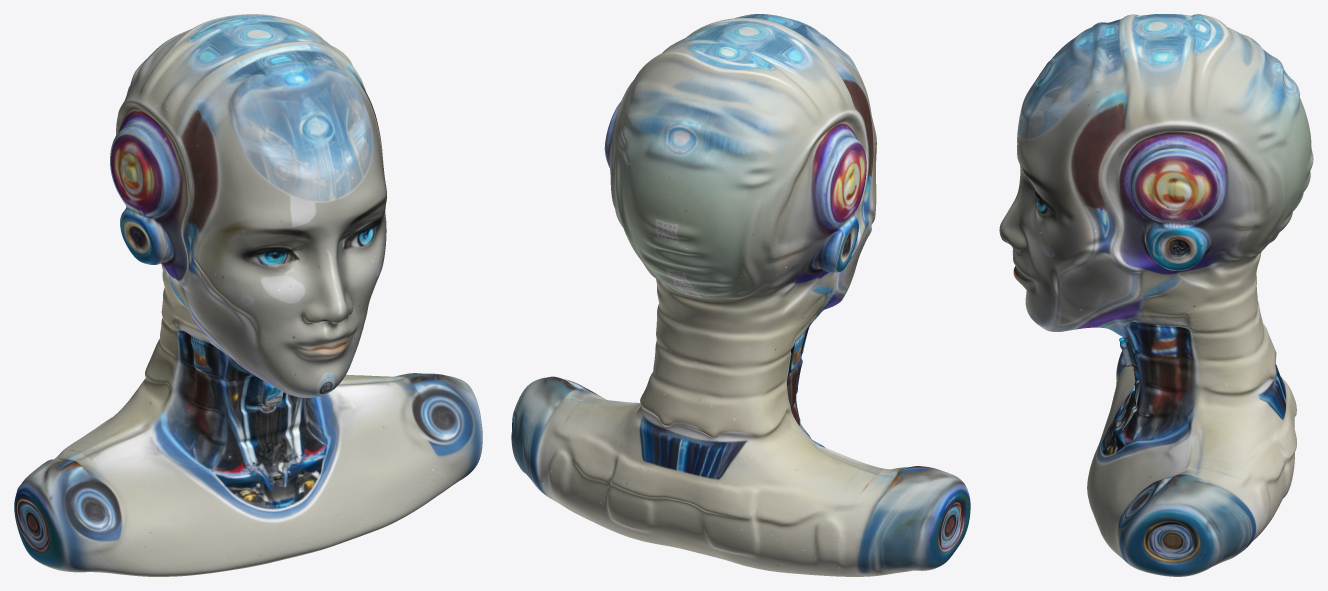
The model's file is female_robo.glb.
3 renders of one model, left to right at view 1: azimuth 30°, elevation 25°; view 2: azimuth 150°, elevation 25°; view 3: azimuth 270°, elevation 25°, orthographic. The views are drawn at different scales.
Size of the model in its own units: 1.78 by 2 by 1.17.
1 material, 1 textured.
